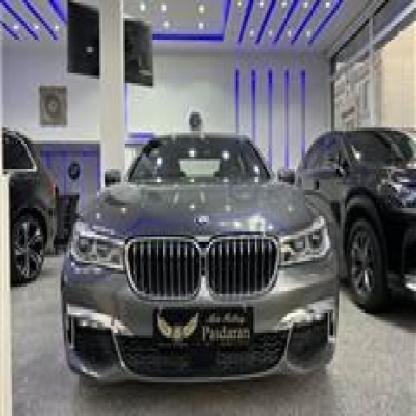Car: (57, 114, 336, 388), (291, 112, 416, 312), (0, 114, 50, 278)
